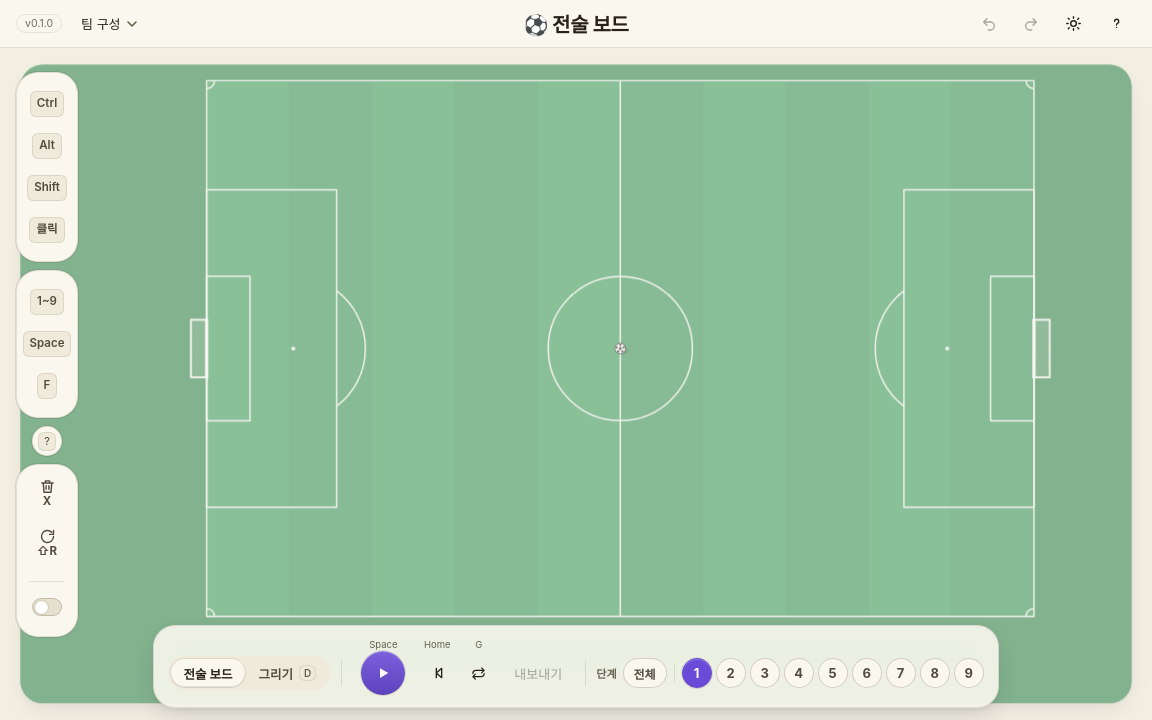
Test: shell hierarchy (PLAN-006 M2) › keeps the single simple-mode landmarks and all primary actions; no legacy chrome
Click the button "팀 구성". click: {"x": 109, "y": 24}
box: [70,8,148,40]
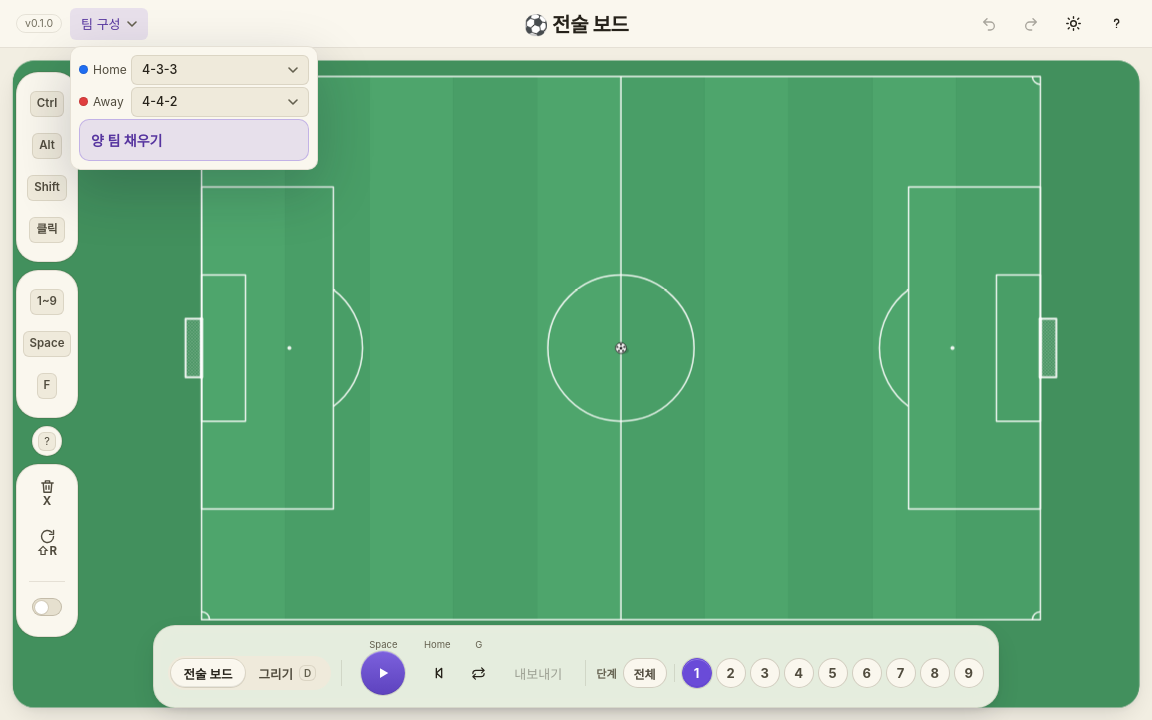
Expected: the button named "움직임 전체 지우기" is shown, [29,477,65,523]
Result: the button "양 팀 채우기" is shown at [79,118,309,160]
